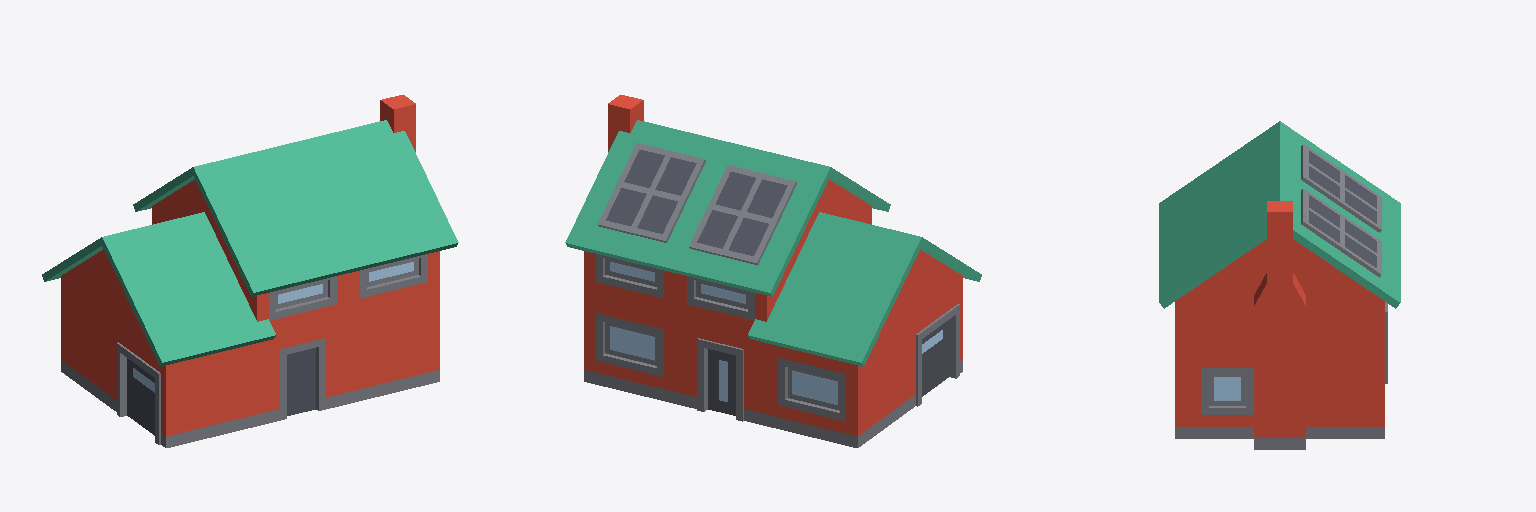
The model's file is house_type13.obj.
3 renders of one model, left to right at view 1: azimuth 30°, elevation 25°; view 2: azimuth 150°, elevation 25°; view 3: azimuth 270°, elevation 25°, orthographic.
Parts seen in each view (by area): view 1: house_type13; view 2: house_type13; view 3: house_type13.
Boxes of the visible parts, box(x1,y1,x2,y2) form: house_type13: box(42, 95, 458, 447); house_type13: box(565, 95, 981, 447); house_type13: box(1159, 121, 1400, 449).
Size of the model in its own units: 1.35 by 1 by 0.916.